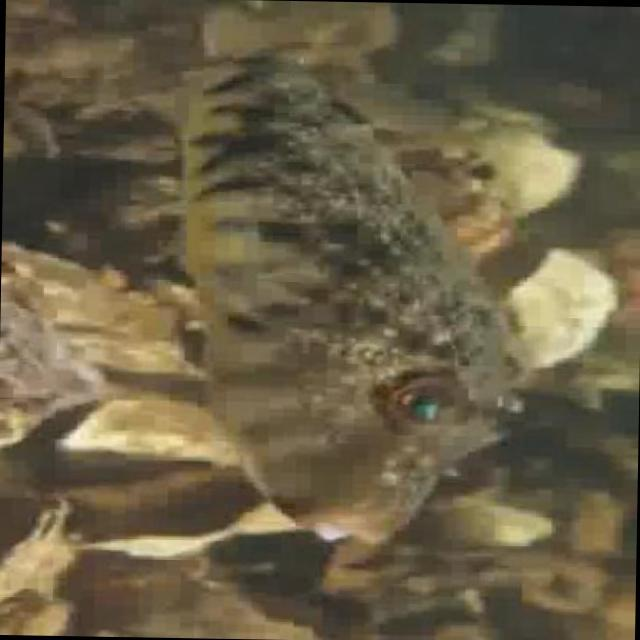Oyster- Indeterminate: (0, 264, 107, 450), (502, 250, 610, 369), (201, 8, 389, 62), (481, 121, 579, 217), (0, 492, 66, 599), (3, 105, 61, 205), (468, 98, 562, 134), (0, 597, 71, 635)
Oyster-Closed: (436, 506, 553, 550)
Oyster-Open: (439, 158, 497, 191)
